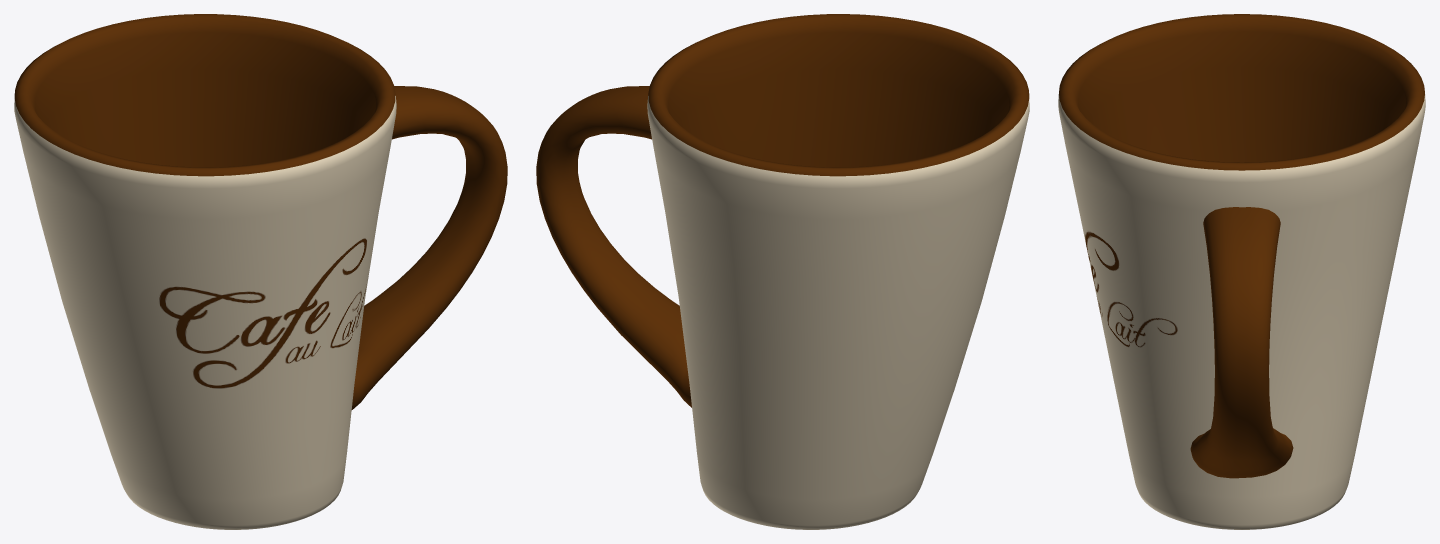
Rendered from cup.glb.
The picture shows the model from 3 angles, left to right: view 1: azimuth 30°, elevation 25°; view 2: azimuth 150°, elevation 25°; view 3: azimuth 270°, elevation 25°; orthographic projection. The views are drawn at different scales.
Visible parts, largest first — view 1: Cafe Tasse; view 2: Cafe Tasse; view 3: Cafe Tasse.
Boxes of the visible parts, x1,y1,x2,y2 form: Cafe Tasse: (14,14,507,529); Cafe Tasse: (536,14,1029,529); Cafe Tasse: (1058,14,1425,529).
Size of the model in its own units: 4.77 by 3.97 by 3.43.
Materials: 2 (1 with a texture image).
